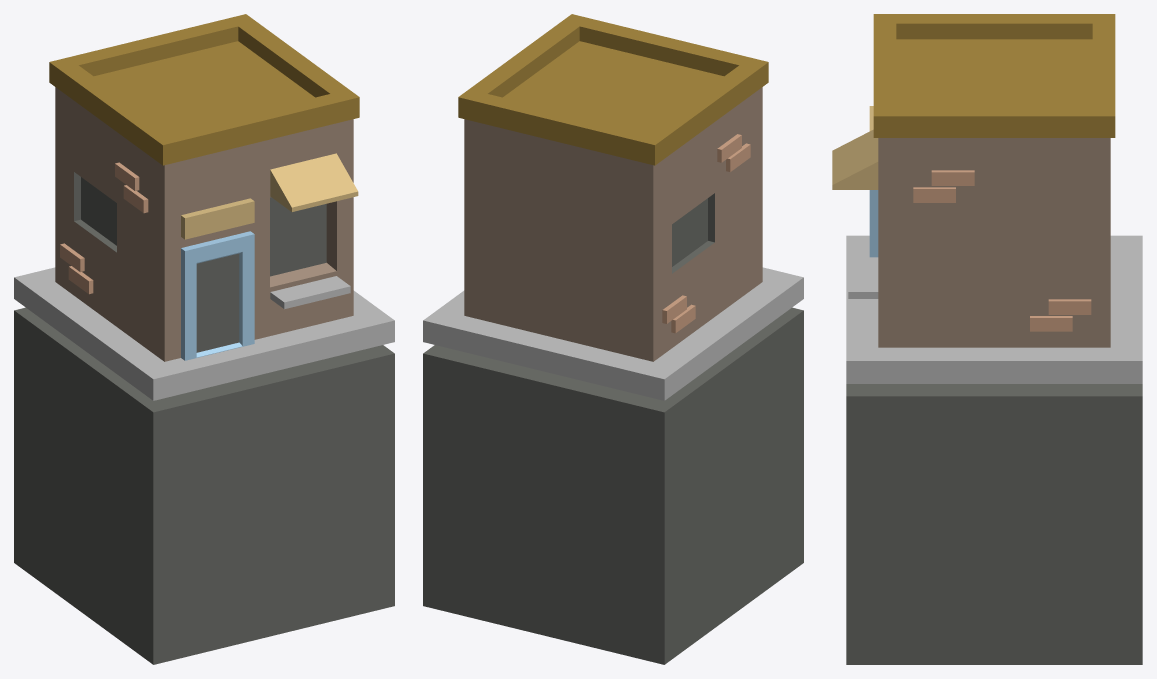
The model's file is house_Block_color_b.fbx.
3 views of the same model, side by side, from view 1: azimuth 30°, elevation 25°; view 2: azimuth 150°, elevation 25°; view 3: azimuth 270°, elevation 25° (orthographic). The views are drawn at different scales.
Parts seen in each view (by area): view 1: floor_base, polySurface6, house2, house, polySurface4, polySurface8, polySurface5, polySurface9; view 2: floor_base, polySurface6, house2, house; view 3: floor_base, polySurface6, house2, house, polySurface8, polySurface9, polySurface54, polySurface56, polySurface55, polySurface57, polySurface4.
Part boxes in pixels (box(x1,y1,x2,y2)): floor_base: box(14, 307, 394, 664); polySurface6: box(55, 87, 353, 361); house2: box(49, 14, 359, 165); house: box(14, 267, 394, 400); polySurface4: box(181, 231, 254, 360); polySurface8: box(270, 153, 358, 211); polySurface5: box(181, 198, 254, 239); polySurface9: box(270, 276, 350, 309); floor_base: box(423, 307, 803, 664); polySurface6: box(464, 87, 762, 361); house2: box(458, 14, 768, 165); house: box(423, 267, 803, 400); floor_base: box(846, 384, 1142, 664); polySurface6: box(878, 138, 1110, 347); house2: box(873, 14, 1115, 137); house: box(846, 235, 1142, 383); polySurface8: box(832, 129, 878, 189); polySurface9: box(848, 257, 878, 298); polySurface54: box(931, 170, 974, 185); polySurface56: box(1048, 299, 1091, 314); polySurface55: box(913, 187, 955, 202); polySurface57: box(1030, 316, 1072, 331); polySurface4: box(869, 190, 878, 257).
Size of the model in its own units: 5 by 10 by 5.23.
